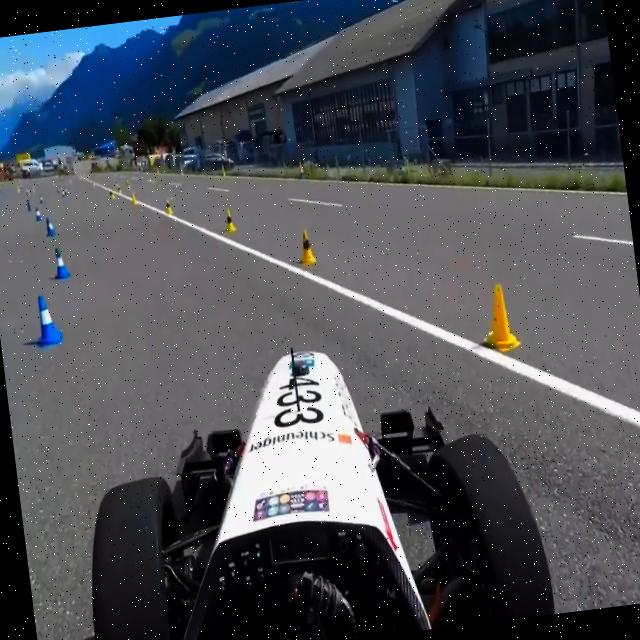blue_cone: (31, 290, 64, 348), (52, 246, 72, 278), (42, 216, 55, 237)
yellow_cone: (475, 278, 522, 354), (296, 227, 317, 266), (224, 206, 236, 233)
